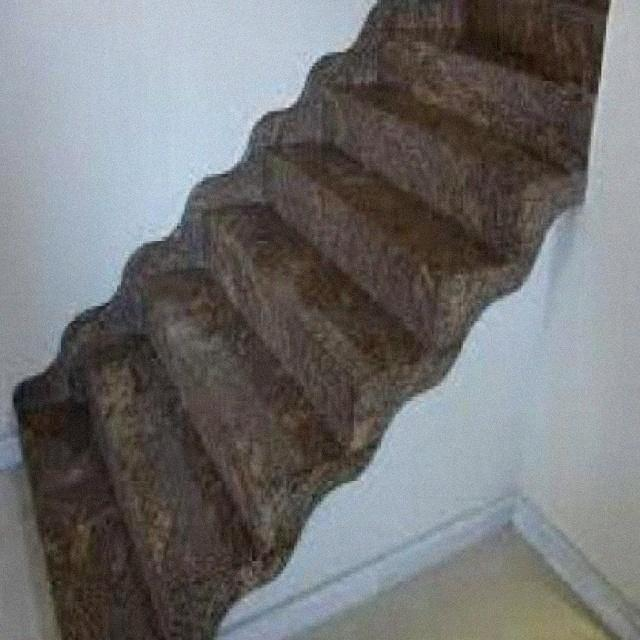stair: (24, 0, 638, 637)
